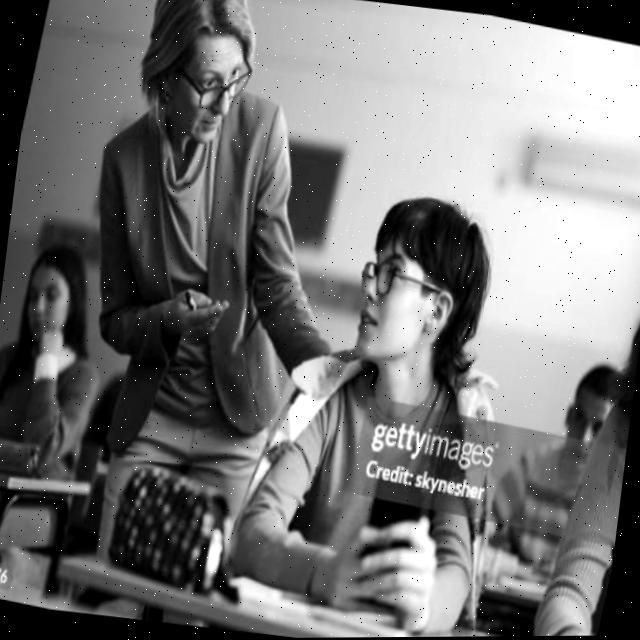phone: (347, 473, 428, 614), (180, 287, 198, 310)
